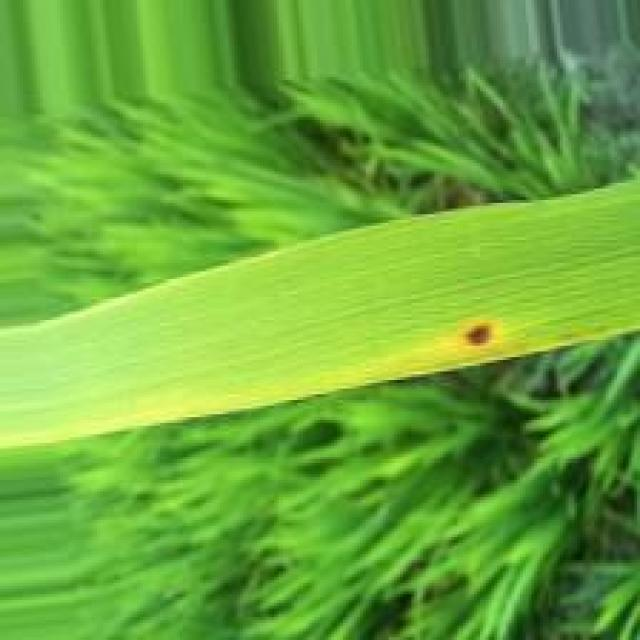Brown_Spot: (456, 321, 498, 353)
